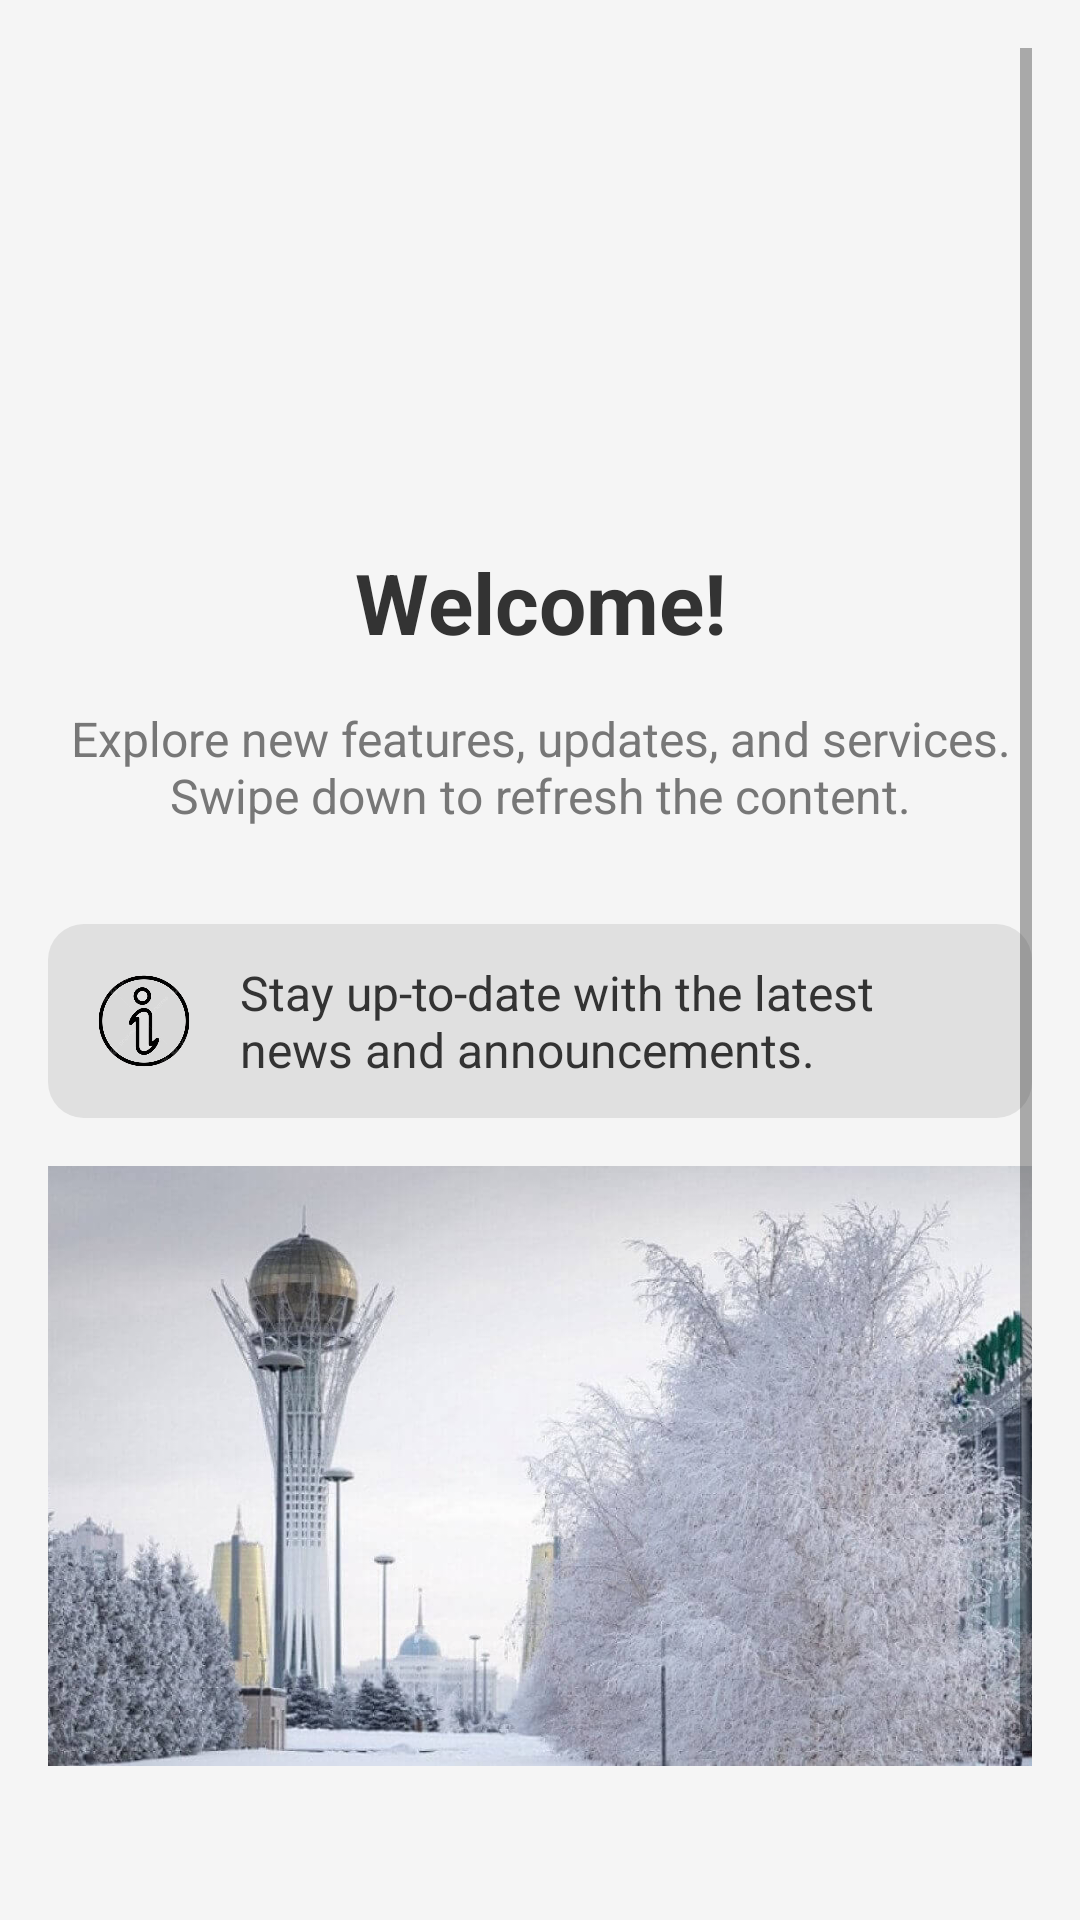

Icon click points for this 1080px x 1920px phone screenshot, format point (x, y):
Info Icon: point (144, 1020)
